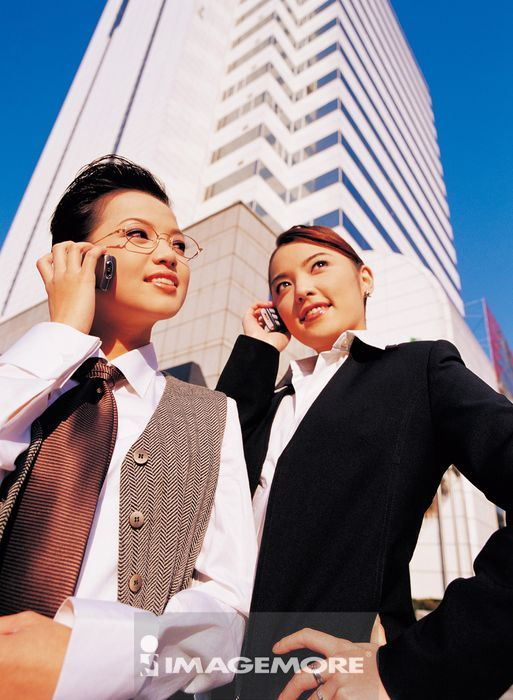talk: (37, 214, 189, 352), (238, 245, 341, 361)
